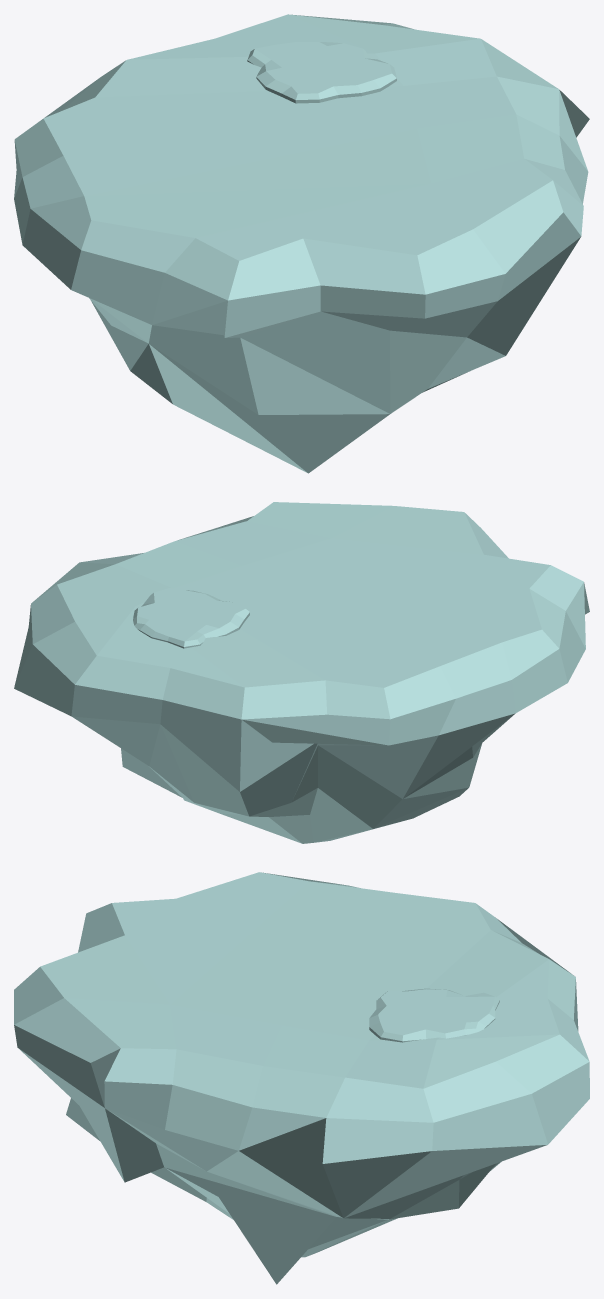
Rendered from iceberg_04.fbx.
The picture shows the model from 3 angles, top to bottom: view 1: azimuth 30°, elevation 25°; view 2: azimuth 150°, elevation 25°; view 3: azimuth 270°, elevation 25°; orthographic projection. The views are drawn at different scales.
Visible parts, largest first — view 1: iceberg_04; view 2: iceberg_04; view 3: iceberg_04.
Boxes of the visible parts, left/top/right/bottom form: iceberg_04: left=14, top=14, right=589, bottom=473; iceberg_04: left=14, top=502, right=589, bottom=843; iceberg_04: left=14, top=872, right=589, bottom=1284.
Size of the model in its own units: 70.89 by 35.87 by 68.07.
